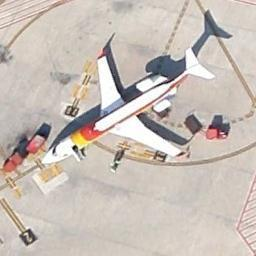Airplane: (36, 40, 221, 166)
